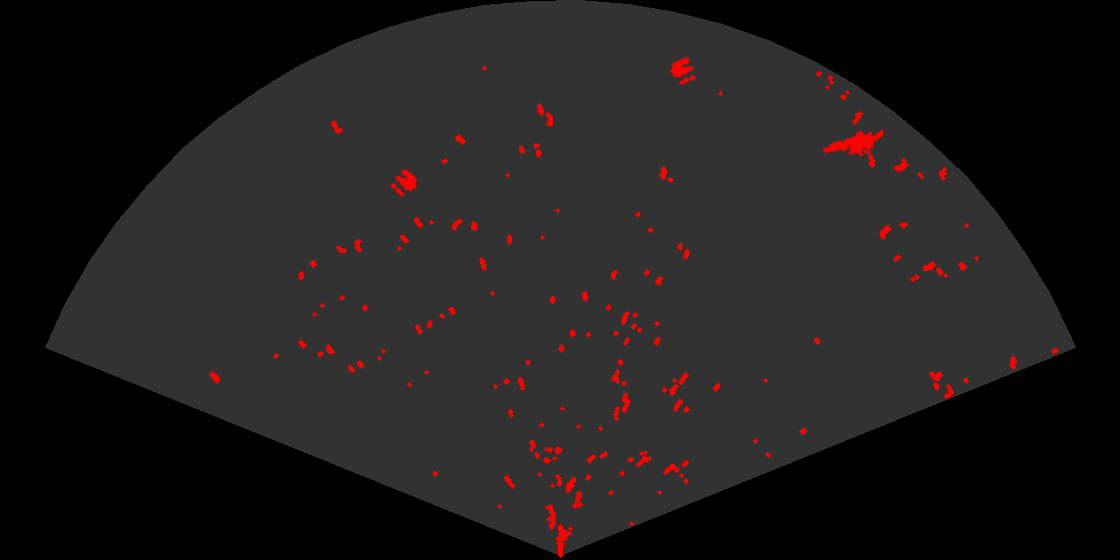ball: (389, 168, 419, 198), (668, 56, 697, 86)
frogman: (821, 128, 883, 158)
